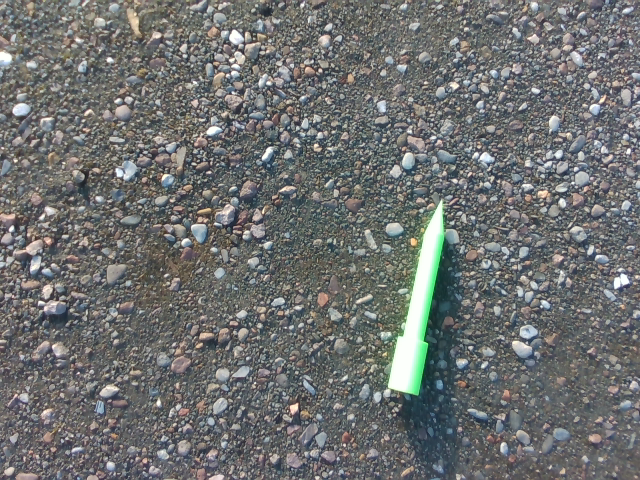Probe: (385, 194, 449, 401)
